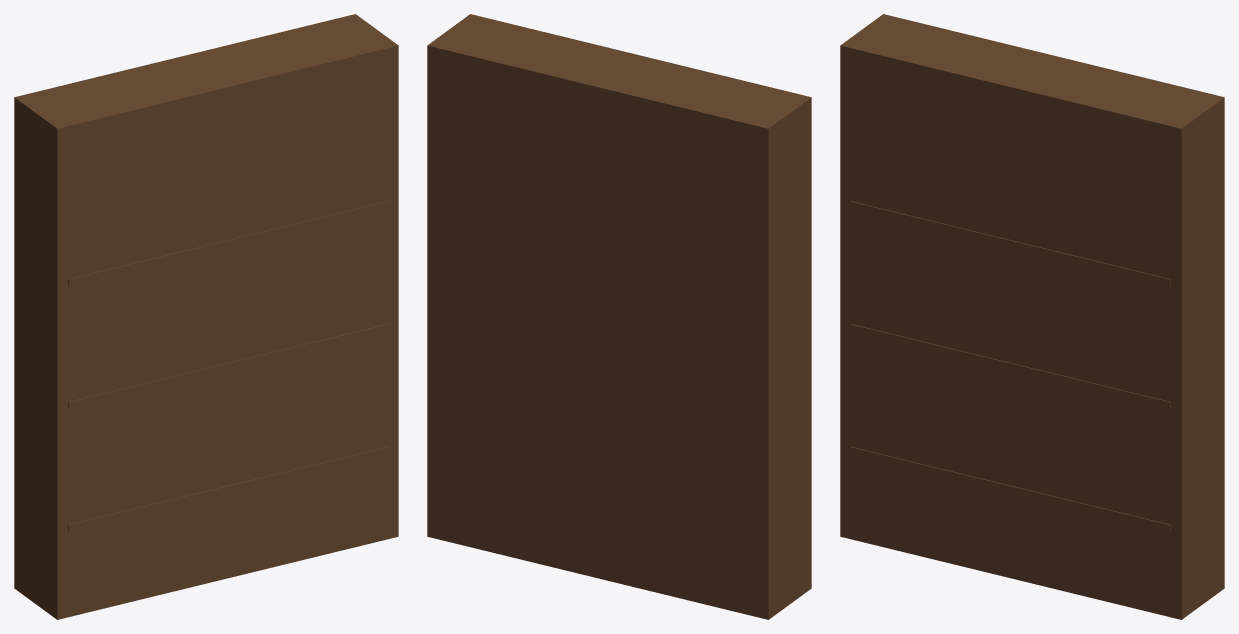
File: secret_shelf.glb
The picture shows the model from 3 angles, left to right: view 1: azimuth 30°, elevation 25°; view 2: azimuth 150°, elevation 25°; view 3: azimuth 330°, elevation 25°; orthographic projection.
Parts seen in each view (by area): view 1: shelf; view 2: shelf; view 3: shelf.
Part boxes in pixels (x1=…): shelf: x1=14, y1=14, x2=398, y2=619; shelf: x1=427, y1=14, x2=811, y2=619; shelf: x1=840, y1=14, x2=1224, y2=619.
Size of the model in its own units: 1.6 by 2.2 by 0.355.
